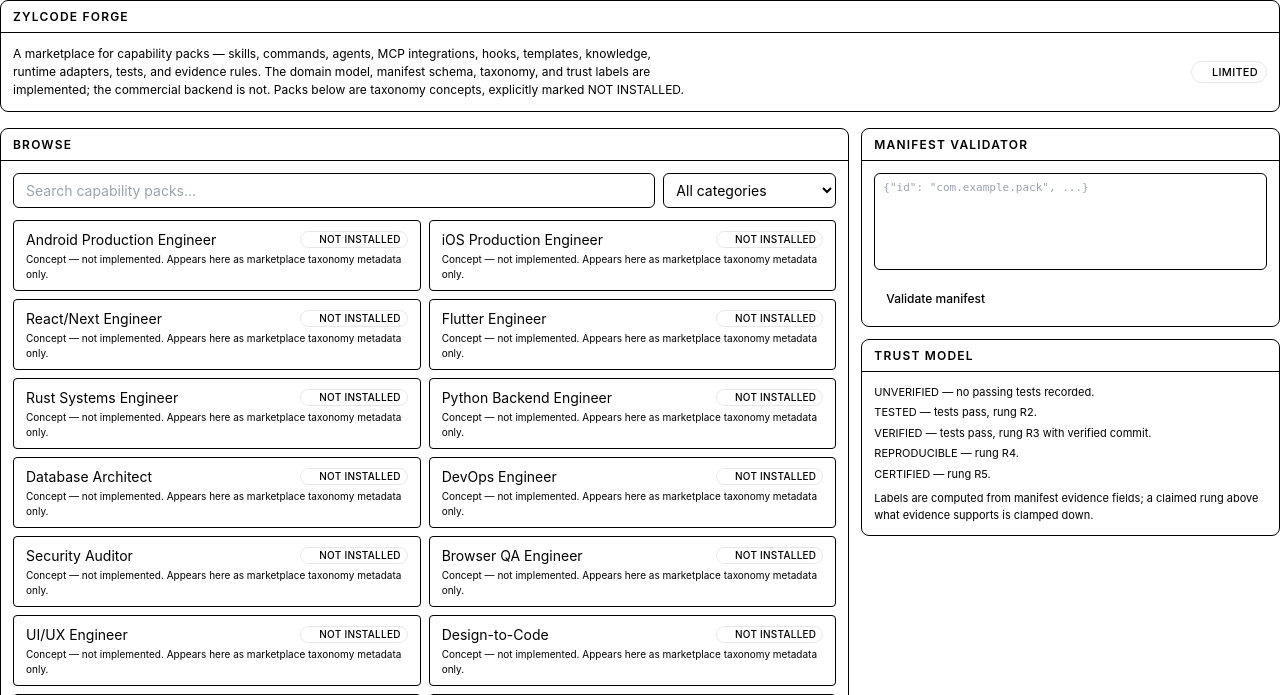
Test case: Forge › filters concept packs by search query
Clear the field with placeholder "Search capability packs…" at (334, 190), box [13,173,655,208]
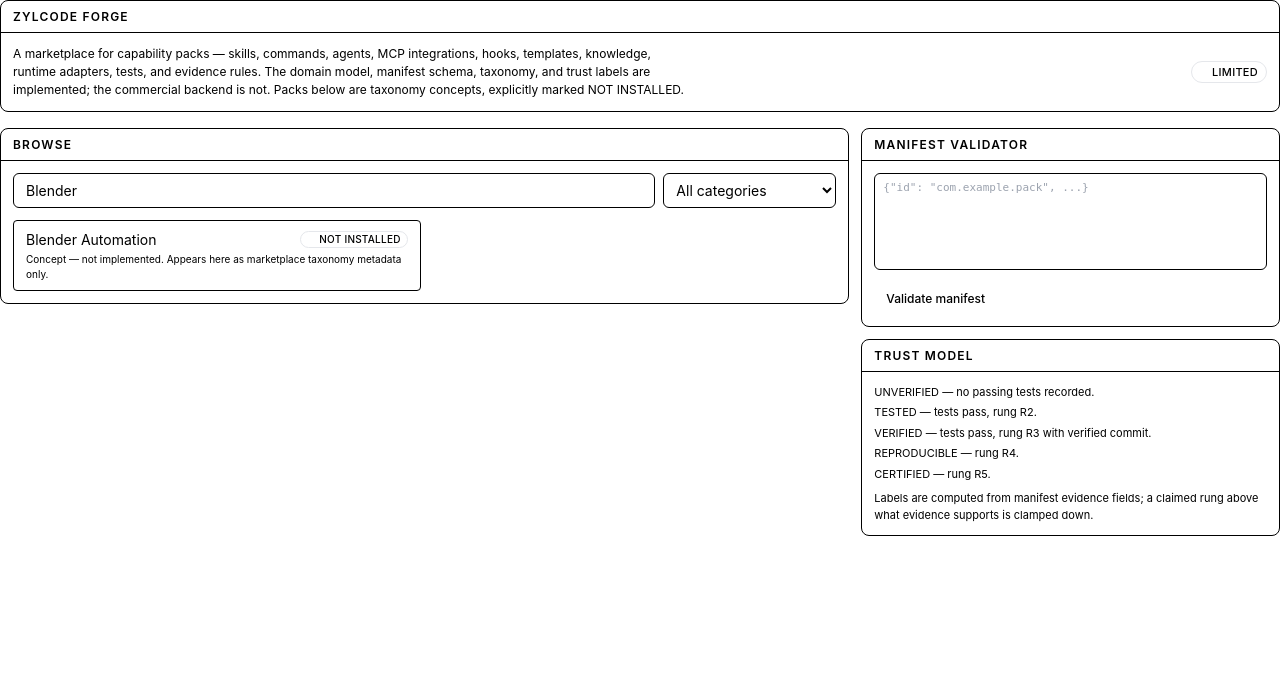
Expected: the text "Blender Automation" is shown, [26,229,156,250]
Now the button "Flutter Engineer" is gone
